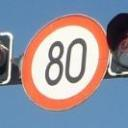speed_limit_80: (19, 12, 110, 114)
